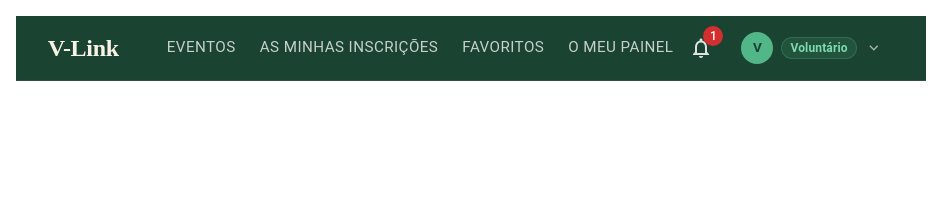
Test: Navbar notifications › opens the dropdown and lists notifications on bell click
Expected: the text "1" is shown, [703,26,723,46]
Click the button with test id "NotificationsNoneIcon": (701, 48) [681,28,721,68]
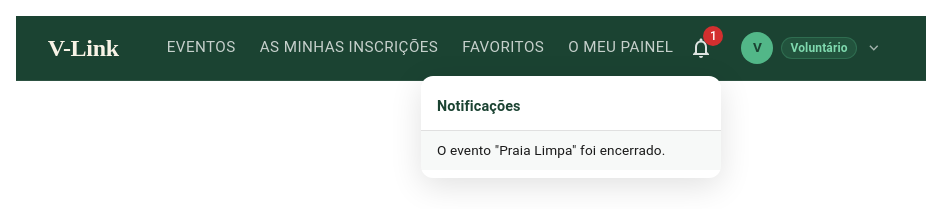
Expected: the text "O evento \"Praia Limpa\" foi encerrado." is shown, [437,140,665,161]
